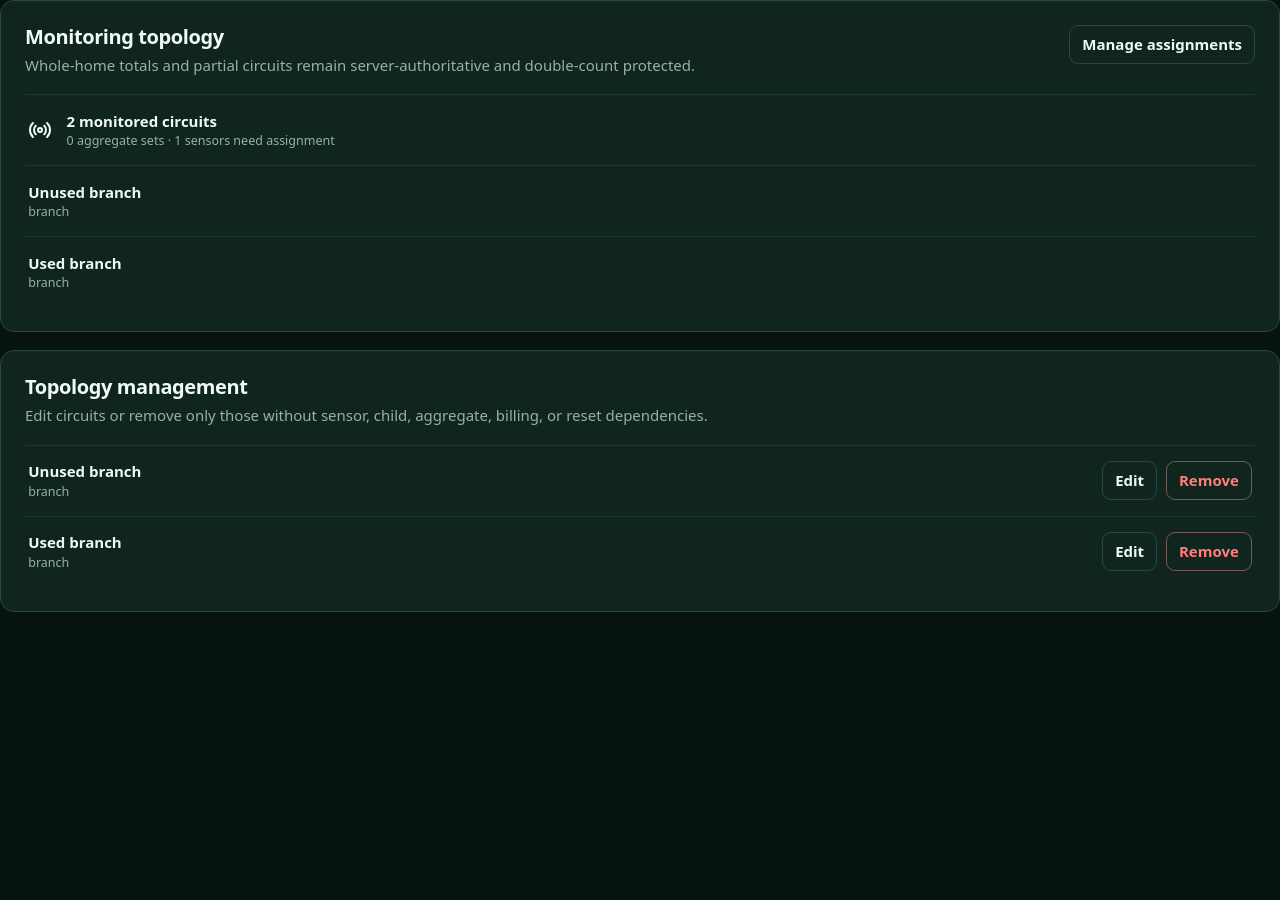
Scenario: topology removal controls › shows sensor dependencies and the server conflict without deleting anything else
Click the 2nd button "Remove".
click(1209, 552)  # box [1166,532,1252,571]
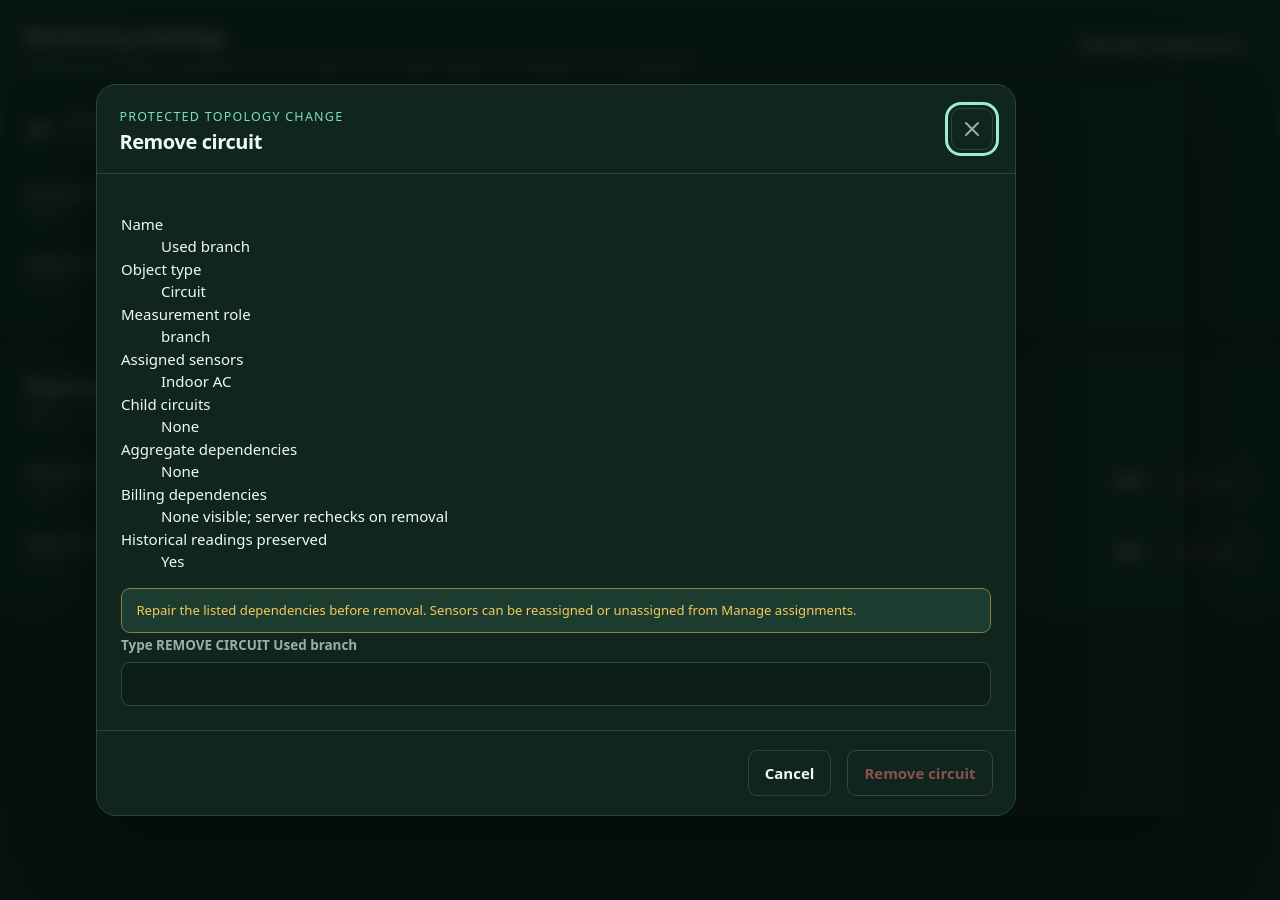
Check: the text "Repair the listed dependencies" is shown, box [136,601,857,619]
Type "REMOVE CIRCUIT Used branch" into the field labelled "Type REMOVE CIRCUIT Used branch".
click(556, 684); type("REMOVE CIRCUIT Used branch")  # box [121,662,991,706]
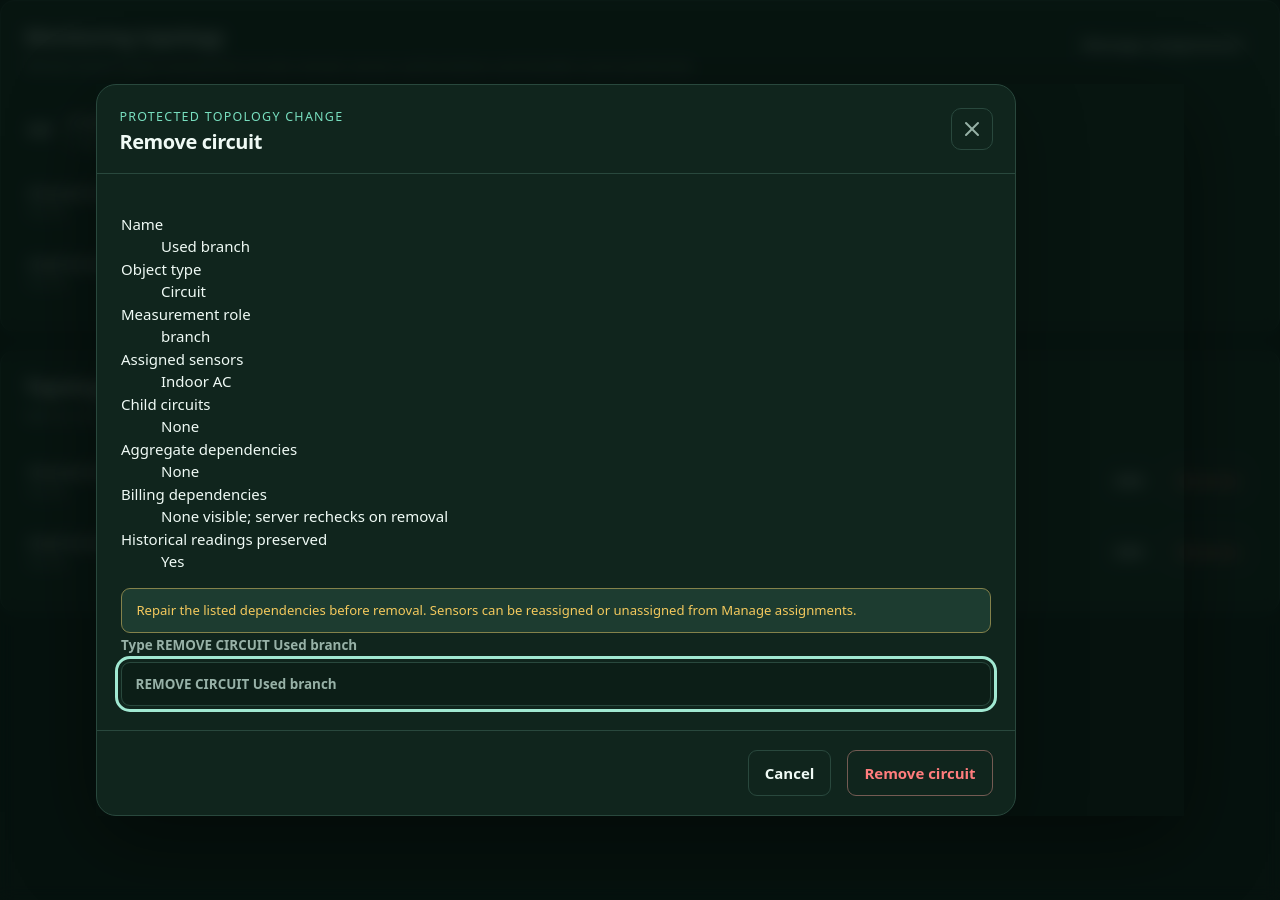
Click the button "Remove circuit".
click(920, 773)  # box [847,750,993,796]
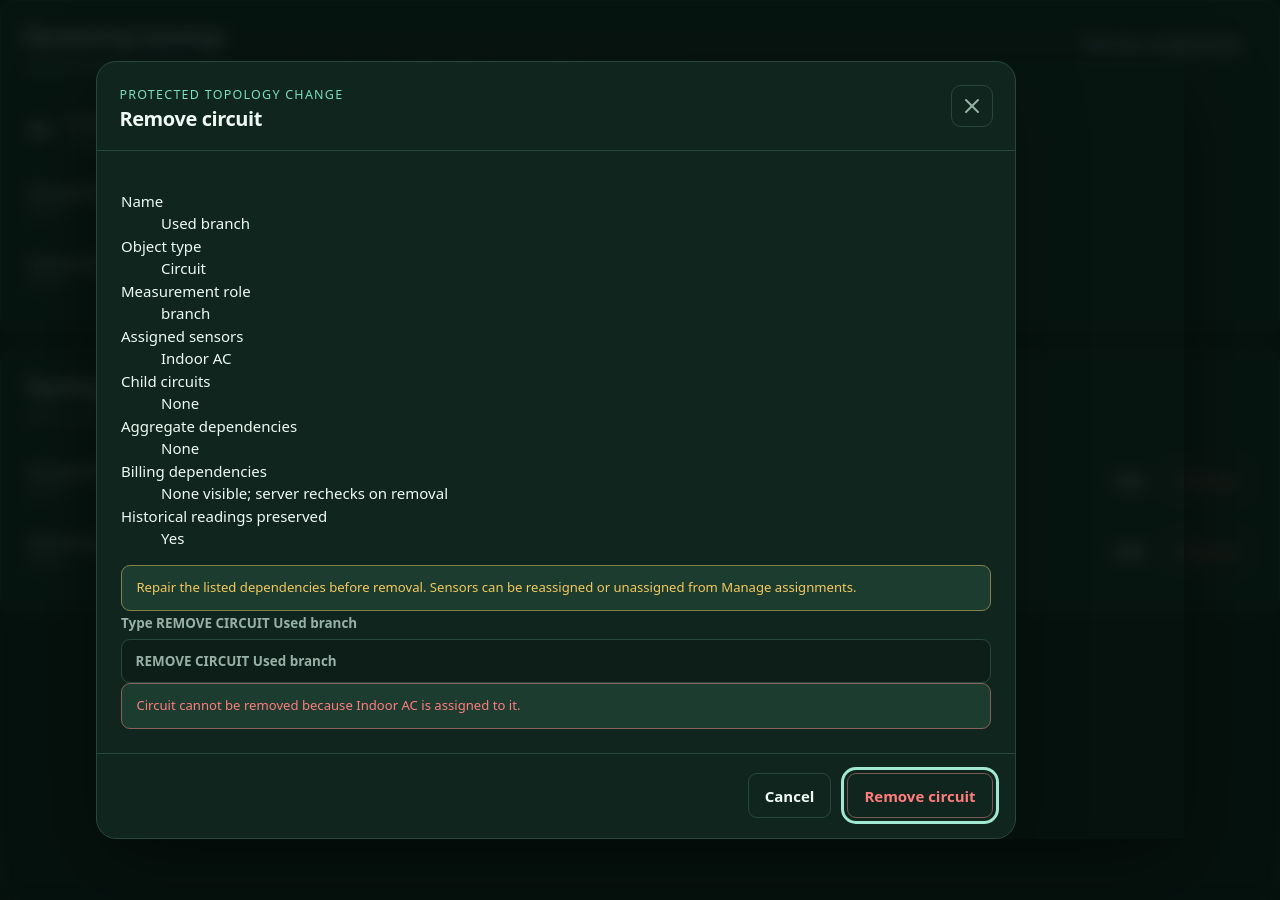
Check: the dialog is shown
Check: the text "Circuit cannot be removed because Indoor AC is assigned to it." is shown, box [121,683,991,729]
